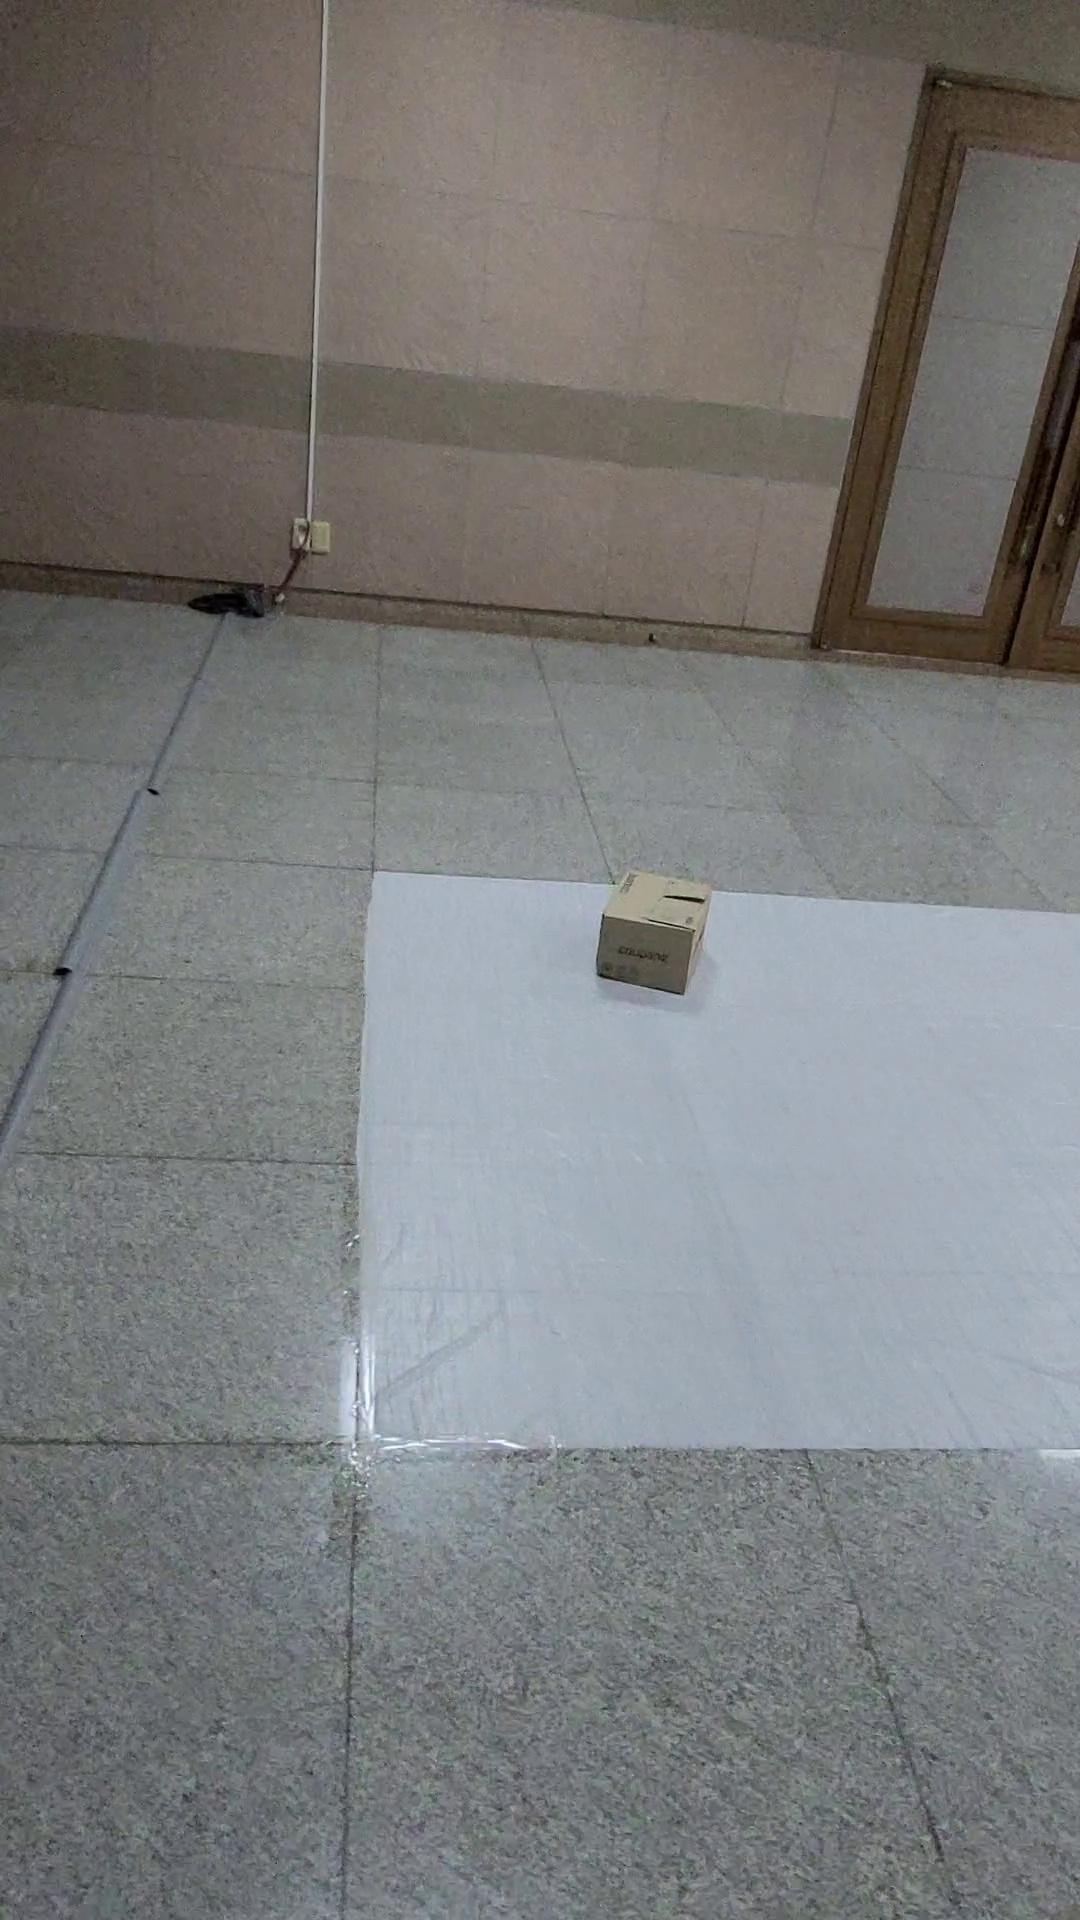Box: (583, 853, 744, 1023)
